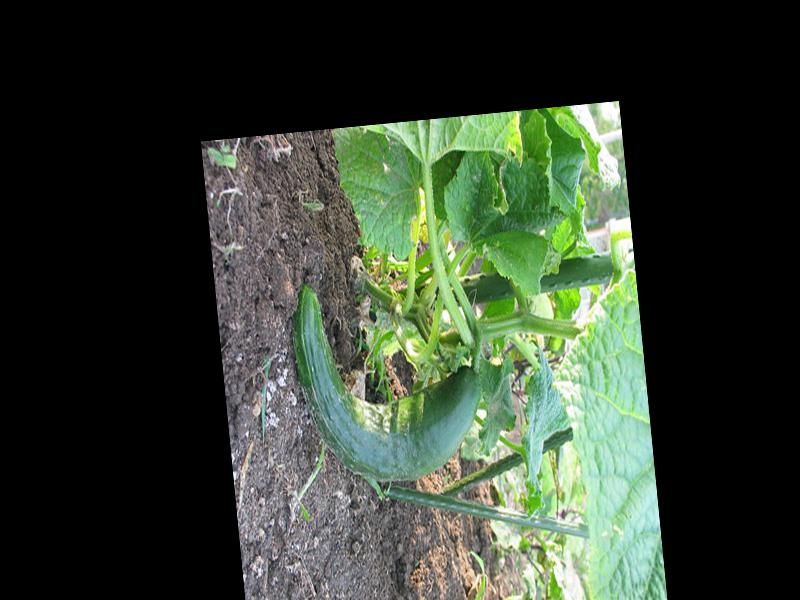Cucumber: (287, 267, 490, 491)
